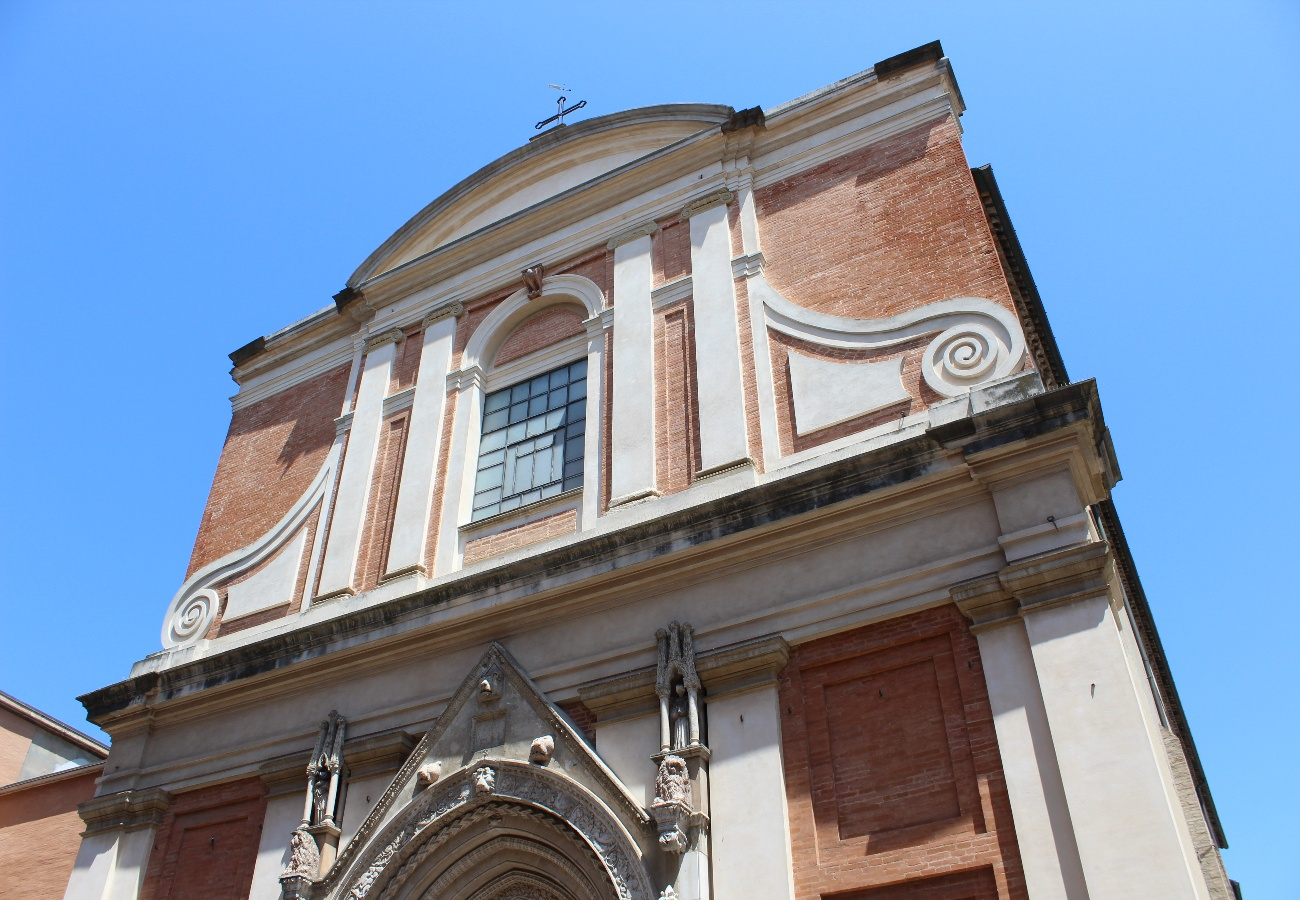Chiesa San Agostino: (77, 39, 1247, 900)
